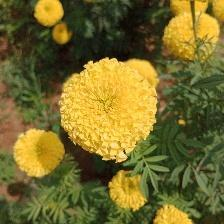marigold: (60, 57, 163, 164)
